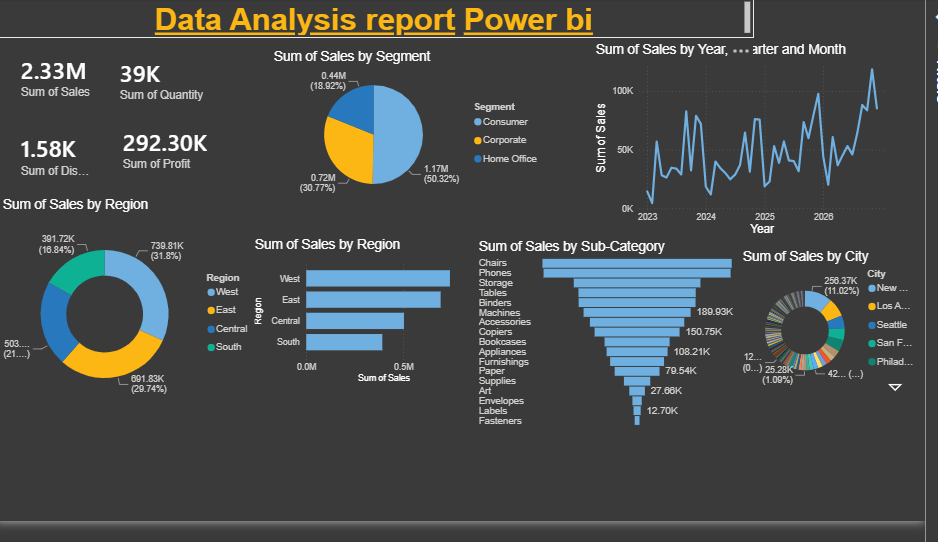

The dashboard page shown, as its layout file describes it:
{"tool":"powerbi","page":{"name":"01_report","canvas":[1280,720],"ordinal":0},"visuals":[{"type":"donutChart","fields":{"Category":["Orders.City"],"Y":["Sum(Orders.Sales)"]},"box":[1024.4,345.6,255.6,203.3],"z":0},{"type":"donutChart","fields":{"Category":["Orders.Region"],"Y":["Sum(Orders.Sales)"]},"box":[5.6,273.3,356.7,301.1],"z":1000},{"type":"funnel","fields":{"Category":["Orders.Sub-Category"],"Y":["Sum(Orders.Sales)"]},"box":[661.1,332.2,363.3,262.2],"z":2000},{"type":"clusteredBarChart","fields":{"Category":["Orders.Region"],"Y":["Sum(Orders.Sales)"]},"box":[352.2,328.9,308.9,206.7],"z":3000},{"type":"pieChart","fields":{"Category":["Orders.Segment"],"Y":["Sum(Orders.Sales)"]},"box":[378.9,70,381.1,214.4],"z":4000},{"type":"lineChart","fields":{"Category":["Orders.Order Date.Variation.Date Hierarchy.Year","Orders.Order Date.Variation.Date Hierarchy.Quarter","Orders.Order Date.Variation.Date Hierarchy.Month"],"Y":["Sum(Orders.Sales)"]},"box":[822.2,61.1,411.1,271.1],"z":5000},{"type":"cardVisual","fields":{"Data":["Sum(Orders.Sales)"]},"box":[5.6,47.8,158.9,117.8],"z":6000},{"type":"cardVisual","fields":{"Data":["Sum(Orders.Quantity)"]},"box":[142.2,55.6,175.6,110],"z":7000},{"type":"cardVisual","fields":{"Data":["Sum(Orders.Discount)"]},"box":[5.6,165.6,158.9,98.9],"z":8000},{"type":"cardVisual","fields":{"Data":["Sum(Orders.Profit)"]},"box":[145.6,145.6,175.6,118.9],"z":9000},{"type":"textbox","box":[5.6,0,1038.9,55.6],"z":10000}]}

Visuals, with their boxes in screenshot pixels (x1, y1, x2, y2), scaled from the page's 1280x720 canvas onto the 938x542 screenshot:
donutChart - Orders.City x Sum(Orders.Sales): box=[751, 260, 937, 413]
donutChart - Orders.Region x Sum(Orders.Sales): box=[4, 206, 265, 432]
funnel - Orders.Sub-Category x Sum(Orders.Sales): box=[484, 250, 751, 447]
clusteredBarChart - Orders.Region x Sum(Orders.Sales): box=[258, 248, 484, 403]
pieChart - Orders.Segment x Sum(Orders.Sales): box=[278, 53, 557, 214]
lineChart - Orders.Order Date.Variation.Date Hierarchy.Year x Orders.Order Date.Variation.Date Hierarchy.Quarter: box=[603, 46, 904, 250]
cardVisual - Sum(Orders.Sales): box=[4, 36, 121, 125]
cardVisual - Sum(Orders.Quantity): box=[104, 42, 233, 125]
cardVisual - Sum(Orders.Discount): box=[4, 125, 121, 199]
cardVisual - Sum(Orders.Profit): box=[107, 110, 235, 199]
textbox: box=[4, 0, 765, 42]
